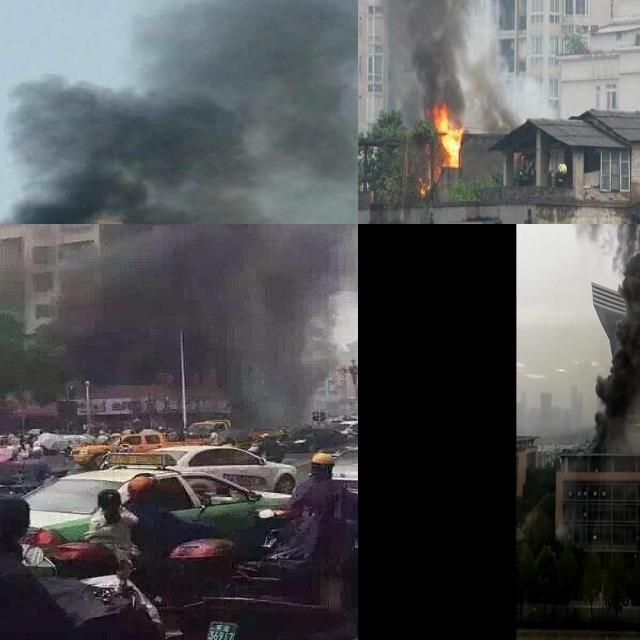fire: (427, 100, 463, 174)
smoke: (0, 0, 358, 224), (39, 224, 358, 424), (375, 0, 527, 130), (566, 224, 640, 451)
